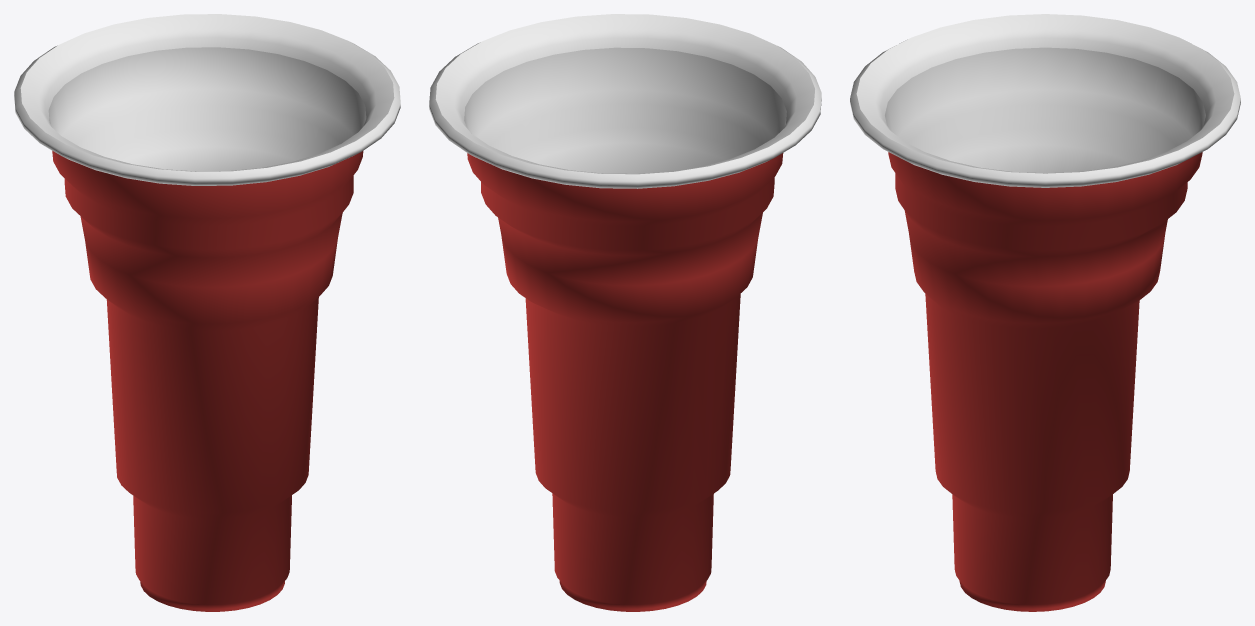
File: Cup.fbx
3 renders of one model, left to right at view 1: azimuth 30°, elevation 25°; view 2: azimuth 150°, elevation 25°; view 3: azimuth 270°, elevation 25°, orthographic.
Parts seen in each view (by area): view 1: Outside, Inside, Cup rim; view 2: Outside, Inside, Cup rim; view 3: Outside, Inside, Cup rim.
Part boxes in pixels (bbox=[...]): Outside: bbox=[52, 151, 363, 611]; Inside: bbox=[48, 47, 366, 171]; Cup rim: bbox=[14, 14, 400, 185]; Outside: bbox=[467, 153, 783, 611]; Inside: bbox=[464, 47, 786, 173]; Cup rim: bbox=[429, 14, 821, 188]; Outside: bbox=[888, 152, 1202, 611]; Inside: bbox=[885, 47, 1205, 173]; Cup rim: bbox=[850, 14, 1240, 187].
Bounding box in the file's own units: 2789 × 3843 × 2789.
